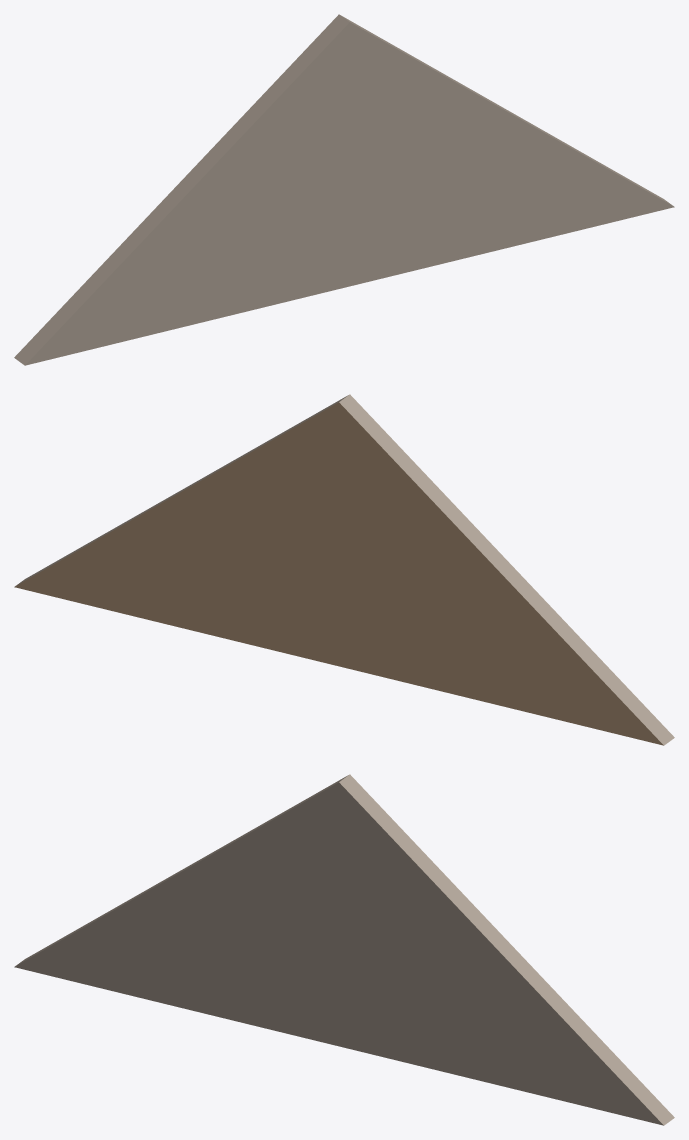
The model's file is Wall2_C4_16.fbx.
The picture shows the model from 3 angles, top to bottom: view 1: azimuth 30°, elevation 25°; view 2: azimuth 150°, elevation 25°; view 3: azimuth 330°, elevation 25°; orthographic projection.
Visible parts, largest first — view 1: Wall2_C4_16; view 2: Wall2_C4_16; view 3: Wall2_C4_16.
Boxes of the visible parts, box(x1,y1,x2,y2) form: Wall2_C4_16: box(14, 14, 674, 365); Wall2_C4_16: box(14, 394, 674, 745); Wall2_C4_16: box(14, 774, 674, 1125).
Size of the model in its own units: 515 by 200 by 15.
